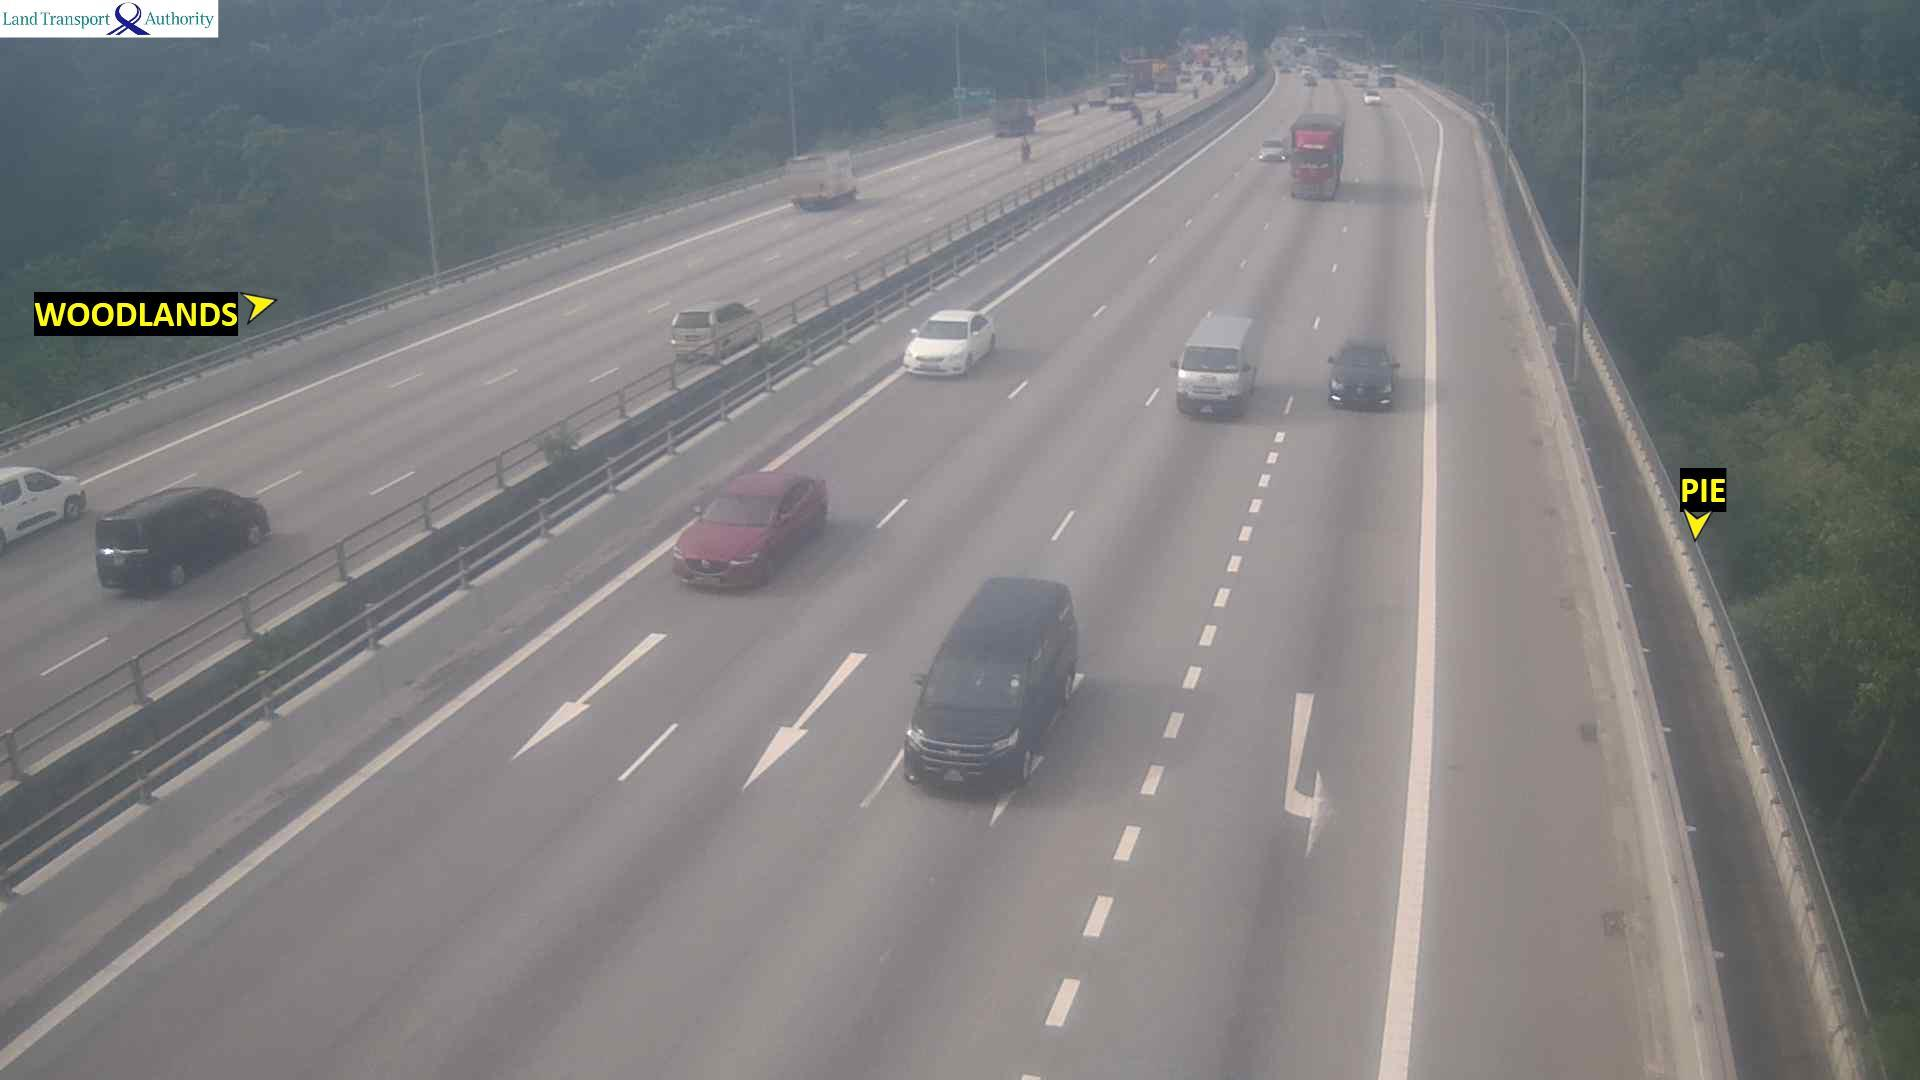incoming: (900, 645, 1037, 795), (665, 487, 790, 587), (1158, 337, 1265, 423), (900, 312, 987, 382), (1325, 345, 1403, 415), (1285, 144, 1342, 204)
